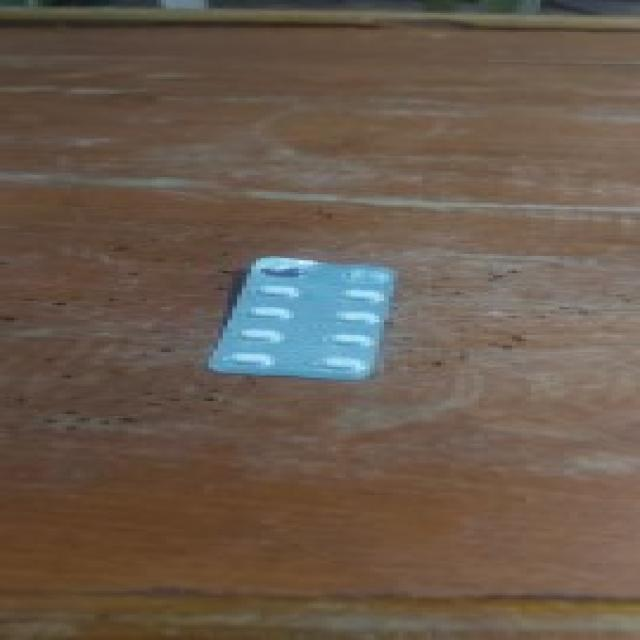Cacat: (205, 256, 396, 375)
Kemasan: (248, 263, 320, 284)
